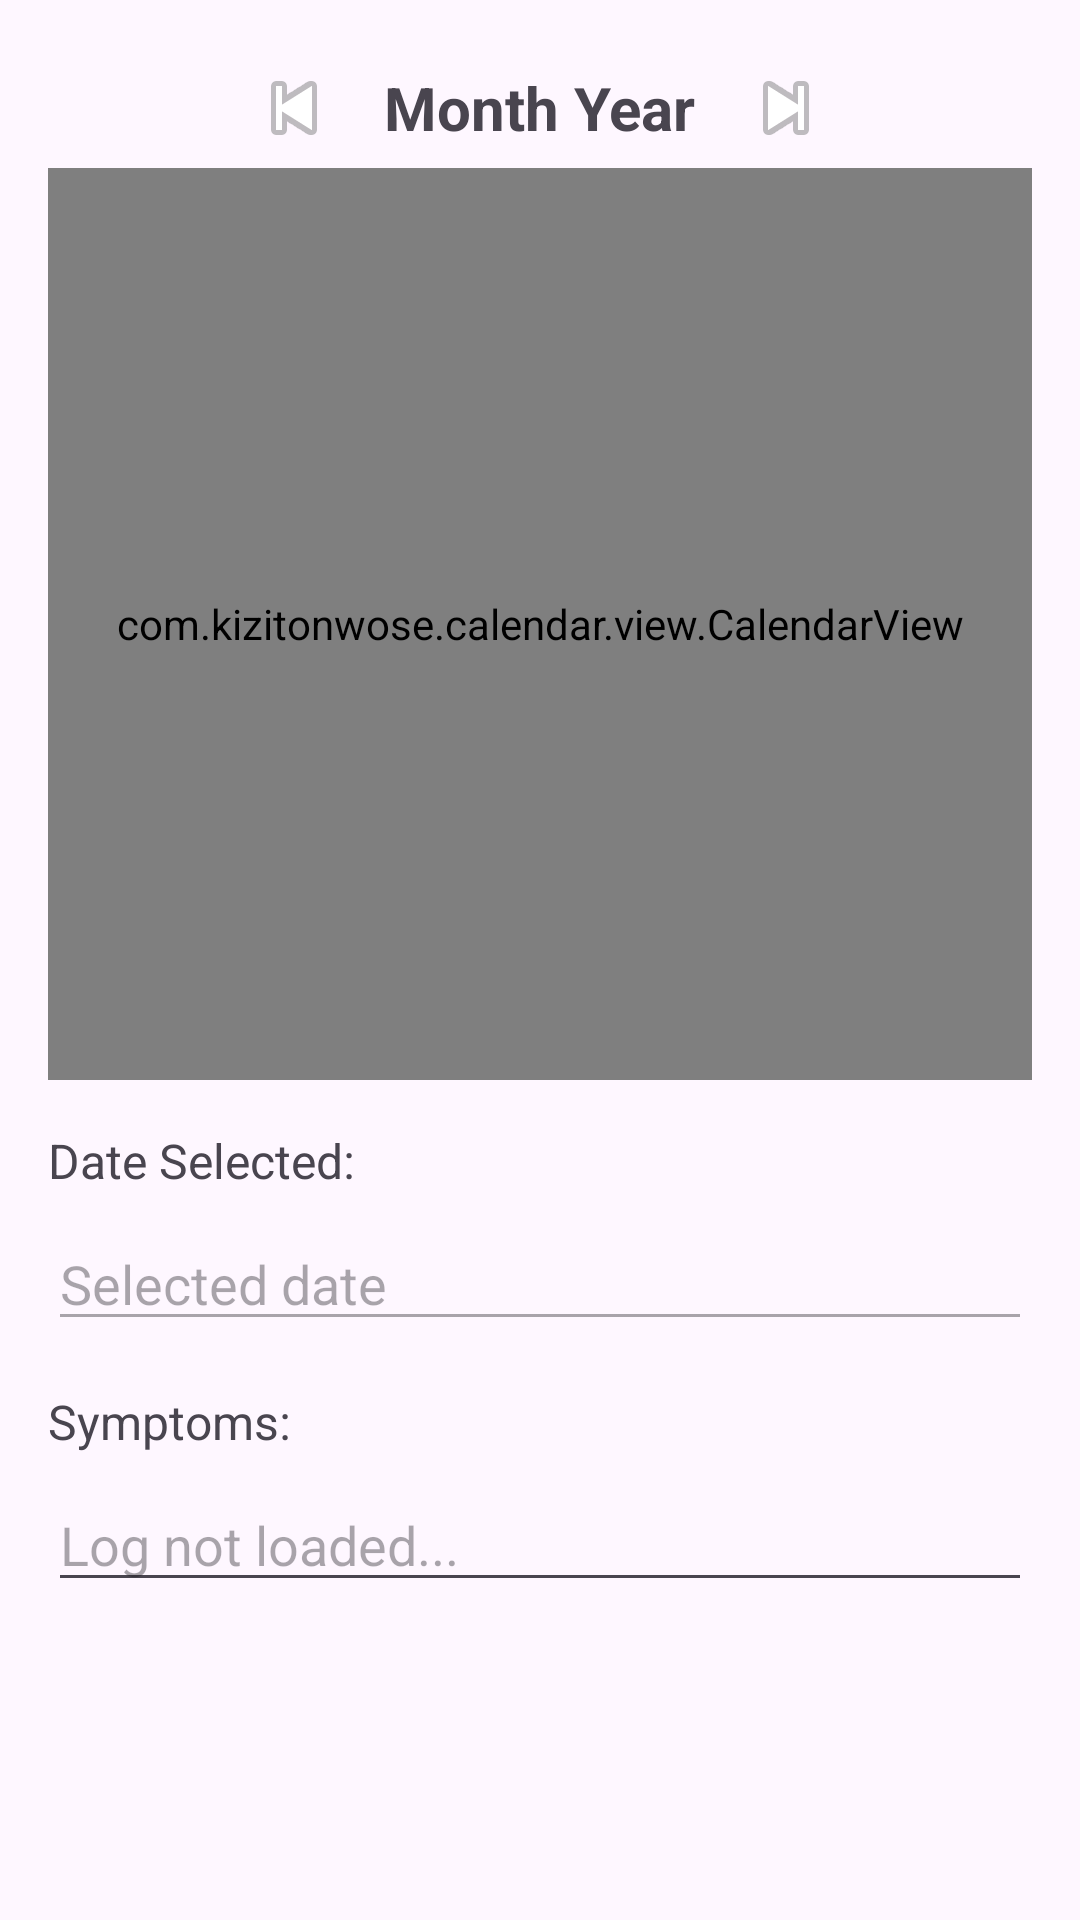

Icons on this 1080*1920 Android screen, each with the point to tap as (x,y):
Next Month: (786,108)
Previous Month: (294,108)
